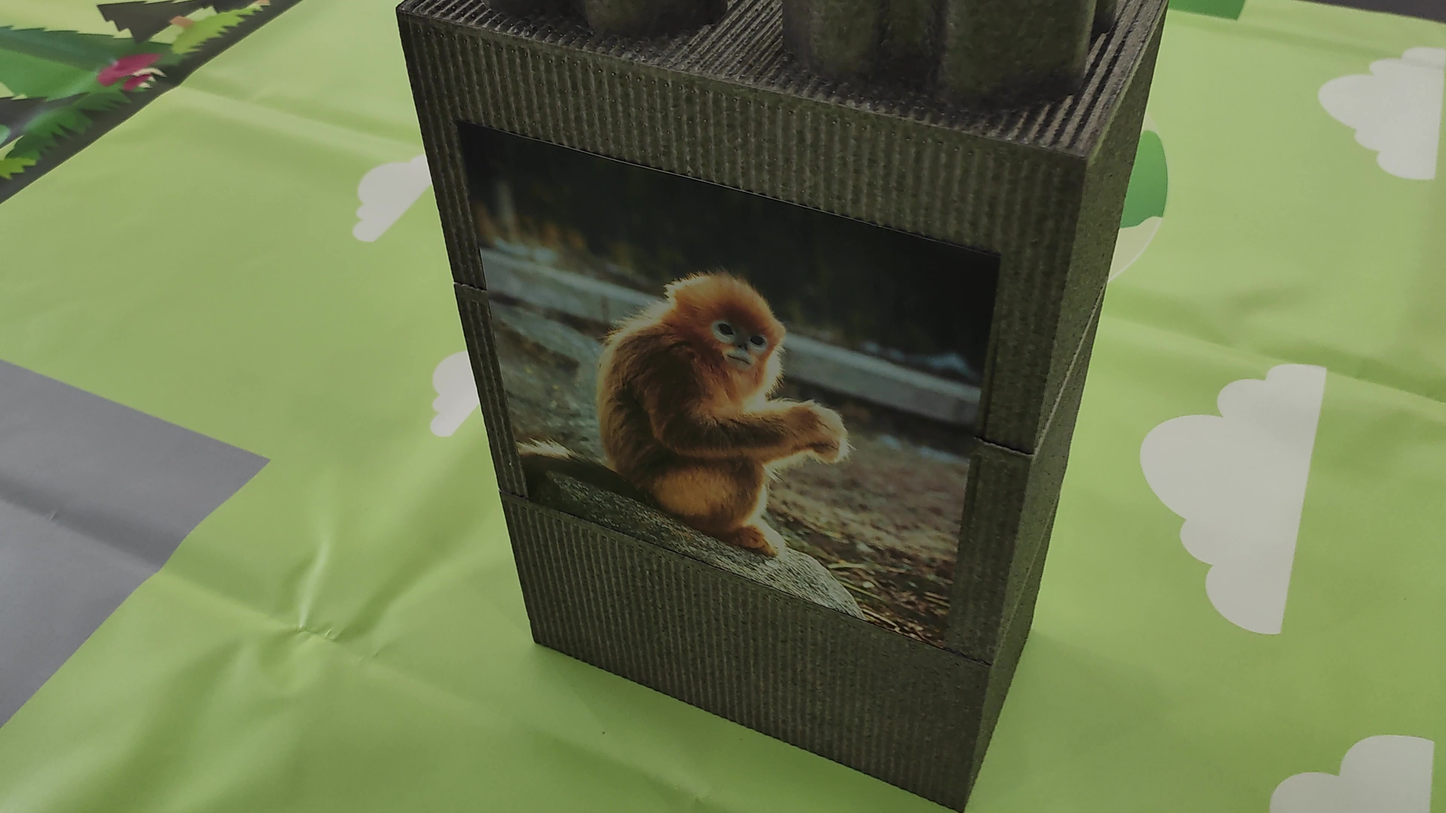monkey: (546, 213, 900, 558)
